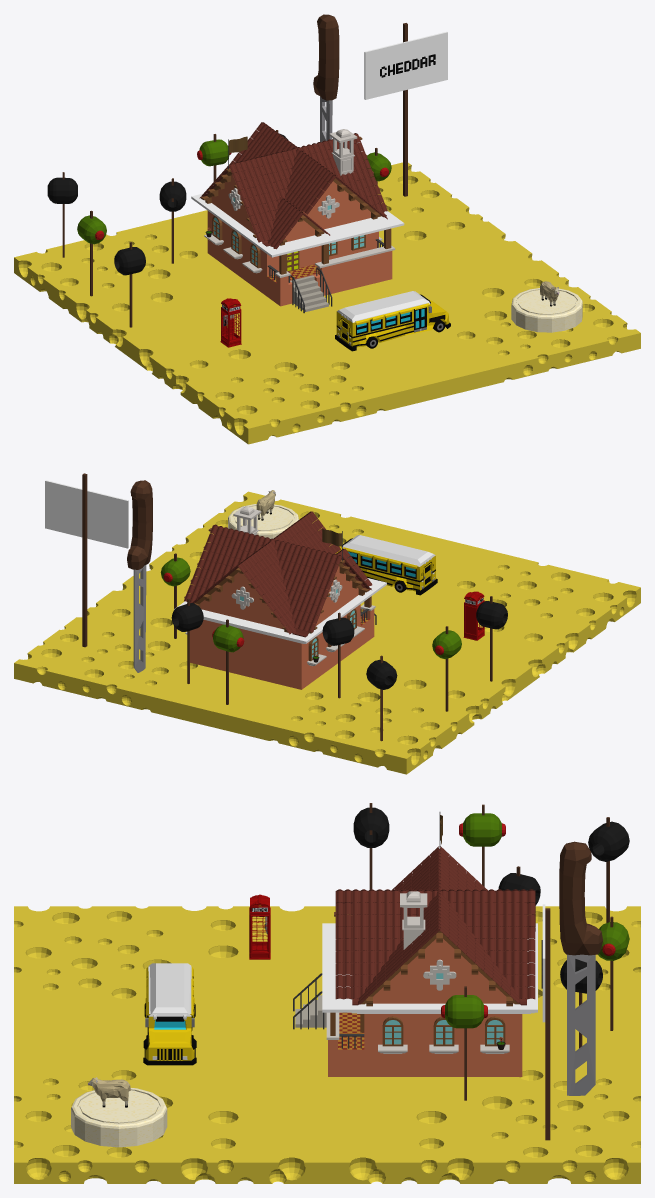
3 renders of one model, top to bottom at view 1: azimuth 30°, elevation 25°; view 2: azimuth 150°, elevation 25°; view 3: azimuth 270°, elevation 25°, orthographic. The views are drawn at different scales.
Visible parts, largest first — view 1: Cube.022, Cube.1141, Cube.023, VEHICLES_SCHOOL_BUS, Cylinder.016, Cube.024, Sphere.017, OBJRANDOM_PHONEBOOTH, Sphere.016, Sphere.020, Sphere.018, Sphere.022; view 2: Cube.022, Cube.1141, Cube.023, VEHICLES_SCHOOL_BUS, Cube.024, Cylinder.016, Sphere.017, Sphere.020, Sphere.021, Sphere.016, Sphere.018, Sphere.022 (+2 smaller); view 3: Cube.022, Cube.1141, Cube.024, VEHICLES_SCHOOL_BUS, Cylinder.016, Cube.023, Sphere.019, Sphere.016, Sphere.018, Sphere.017, OBJRANDOM_PHONEBOOTH, Sphere.022 (+3 smaller).
Boxes of the visible parts, x1=… form: Cube.022: x1=14, y1=162, x2=640, y2=444; Cube.1141: x1=191, y1=122, x2=404, y2=313; Cube.023: x1=364, y1=23, x2=447, y2=196; VEHICLES_SCHOOL_BUS: x1=335, y1=291, x2=450, y2=351; Cylinder.016: x1=511, y1=288, x2=582, y2=332; Cube.024: x1=313, y1=14, x2=339, y2=142; Sphere.017: x1=114, y1=242, x2=145, y2=327; OBJRANDOM_PHONEBOOTH: x1=220, y1=298, x2=241, y2=347; Sphere.016: x1=47, y1=172, x2=77, y2=257; Sphere.020: x1=159, y1=178, x2=186, y2=263; Sphere.018: x1=77, y1=210, x2=106, y2=296; Sphere.022: x1=197, y1=134, x2=231, y2=181; Cube.022: x1=14, y1=491, x2=640, y2=774; Cube.1141: x1=174, y1=506, x2=386, y2=689; Cube.023: x1=45, y1=473, x2=128, y2=647; VEHICLES_SCHOOL_BUS: x1=335, y1=535, x2=437, y2=595; Cube.024: x1=127, y1=480, x2=152, y2=672; Cylinder.016: x1=228, y1=504, x2=298, y2=538; Sphere.017: x1=476, y1=596, x2=507, y2=681; Sphere.020: x1=322, y1=612, x2=354, y2=698; Sphere.021: x1=171, y1=598, x2=203, y2=683; Sphere.016: x1=366, y1=655, x2=397, y2=741; Sphere.018: x1=432, y1=626, x2=461, y2=711; Sphere.022: x1=212, y1=619, x2=244, y2=704; Cube.022: x1=14, y1=906, x2=640, y2=1183; Cube.1141: x1=293, y1=812, x2=537, y2=1076; Cube.024: x1=559, y1=841, x2=602, y2=1095; VEHICLES_SCHOOL_BUS: x1=143, y1=963, x2=196, y2=1065; Cylinder.016: x1=71, y1=1087, x2=167, y2=1147; Cube.023: x1=541, y1=904, x2=550, y2=1140; Sphere.019: x1=441, y1=986, x2=487, y2=1100; Sphere.016: x1=588, y1=817, x2=629, y2=922; Sphere.018: x1=459, y1=804, x2=505, y2=888; Sphere.017: x1=353, y1=803, x2=389, y2=889; OBJRANDOM_PHONEBOOTH: x1=249, y1=894, x2=270, y2=959; Sphere.022: x1=598, y1=916, x2=629, y2=1030.
Bounding box in the file's own units: 3917 × 2023 × 4000.
Materials: 52 (3 with a texture image).
